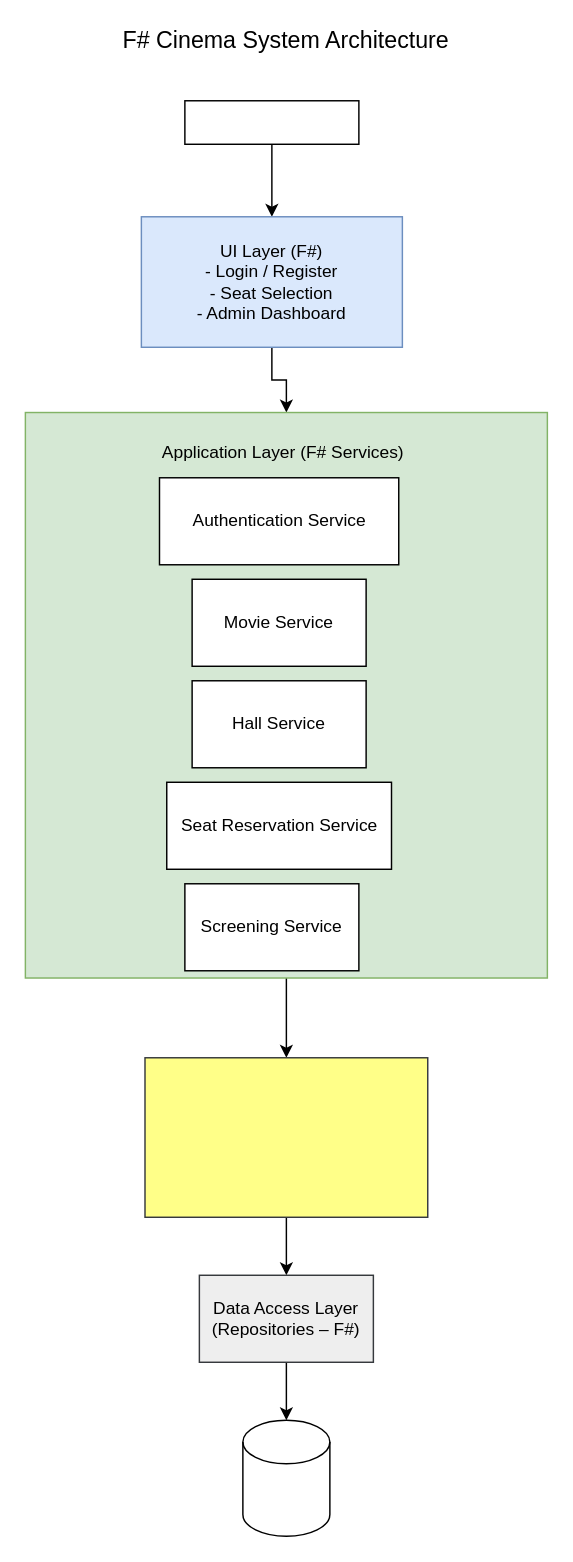
Image size: 573x1562. Some labels were removed from this diagram. The centre of each missing label's shape, as x and y in pixels:
"Domain Layer (F# Models) User Movie Hall Seat Screening Reservation" goes at point 286,1136.
"SQL Server CinemaDb" goes at point 285,1477.
"User / Admin" goes at point 271,121.
